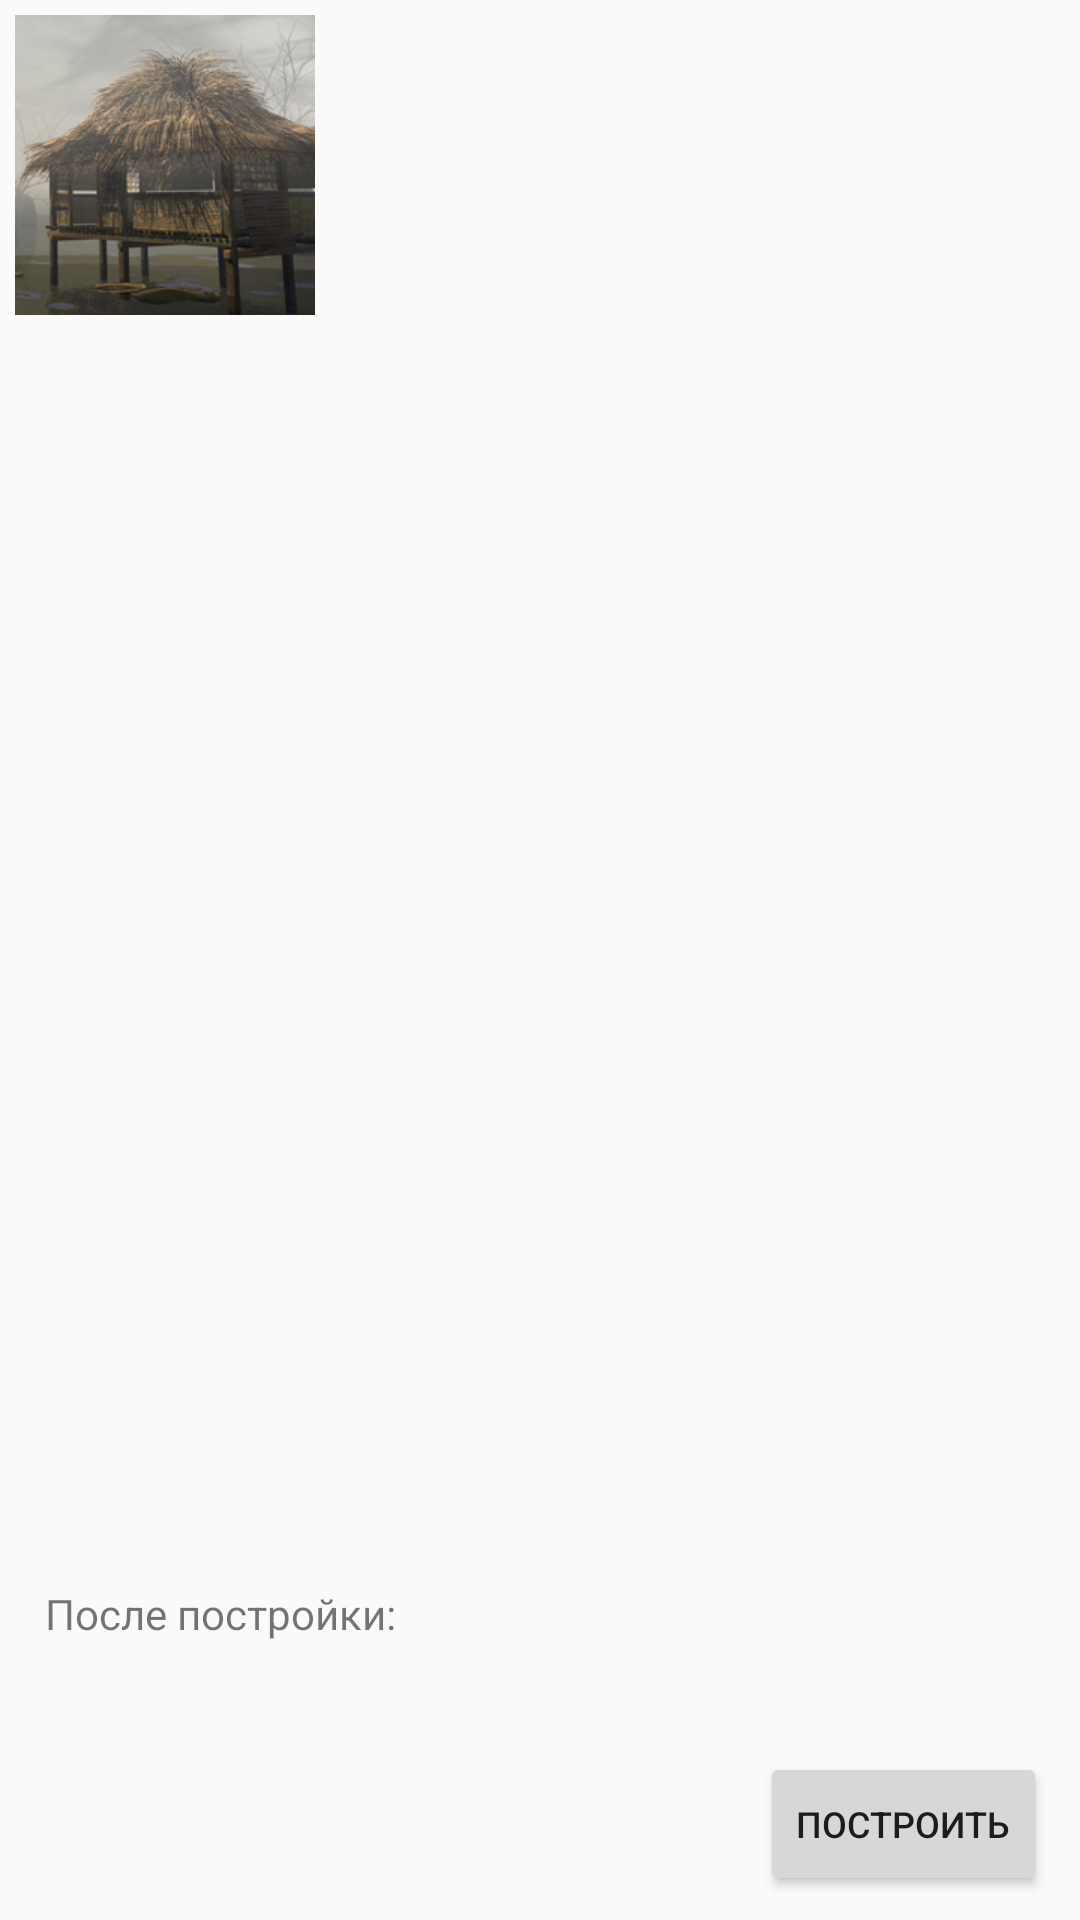

Icons on this 1080 × 1920 Android screen, each with its box as (x1, y1, x2, y2):
hut: (15, 15, 315, 315)
